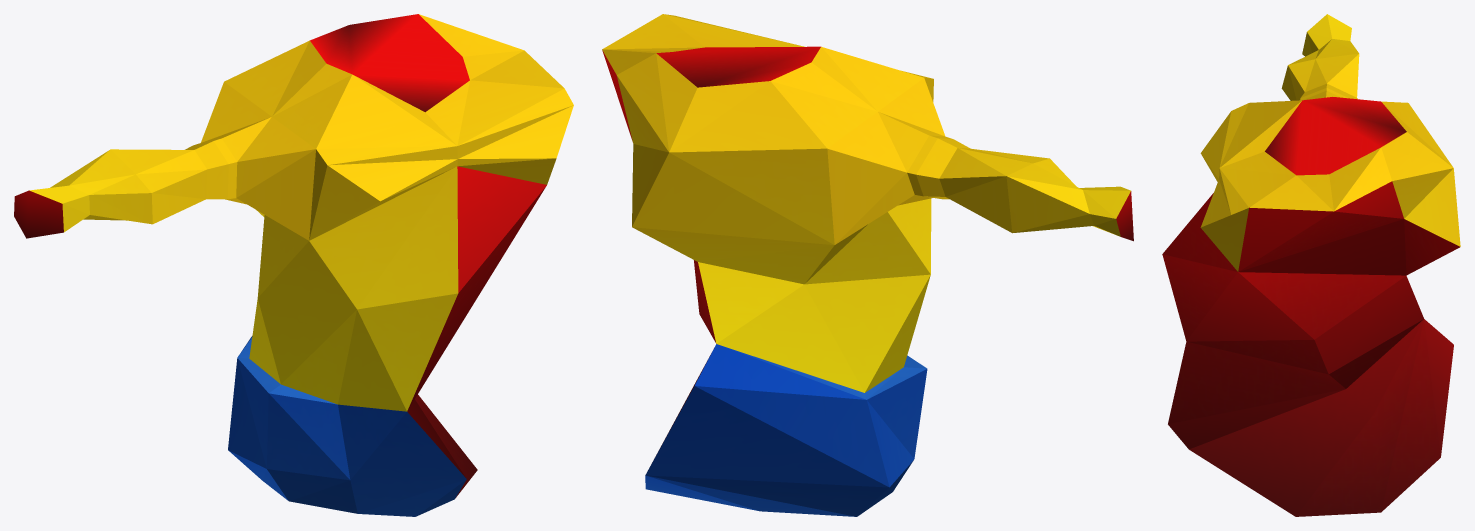
File: Flesh3.fbx
The picture shows the model from 3 angles, left to right: view 1: azimuth 30°, elevation 25°; view 2: azimuth 150°, elevation 25°; view 3: azimuth 270°, elevation 25°; orthographic projection. The views are drawn at different scales.
Visible parts, largest first — view 1: Flesh3; view 2: Flesh3; view 3: Flesh3.
Boxes of the visible parts, x1=… form: Flesh3: x1=14, y1=14, x2=573, y2=516; Flesh3: x1=602, y1=14, x2=1133, y2=516; Flesh3: x1=1162, y1=14, x2=1460, y2=516.
Bounding box in the file's own units: 19.28 × 15.5 × 11.47.
